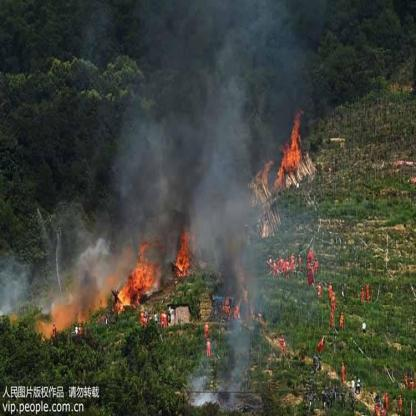fire: (37, 240, 161, 337), (275, 96, 306, 192), (165, 219, 197, 284)
other: (269, 238, 320, 282), (365, 382, 413, 412), (315, 284, 344, 326), (218, 290, 248, 319), (200, 321, 212, 360), (358, 279, 370, 301), (340, 358, 348, 383), (276, 333, 287, 349), (318, 333, 324, 349)
smoke: (131, 52, 246, 210)
